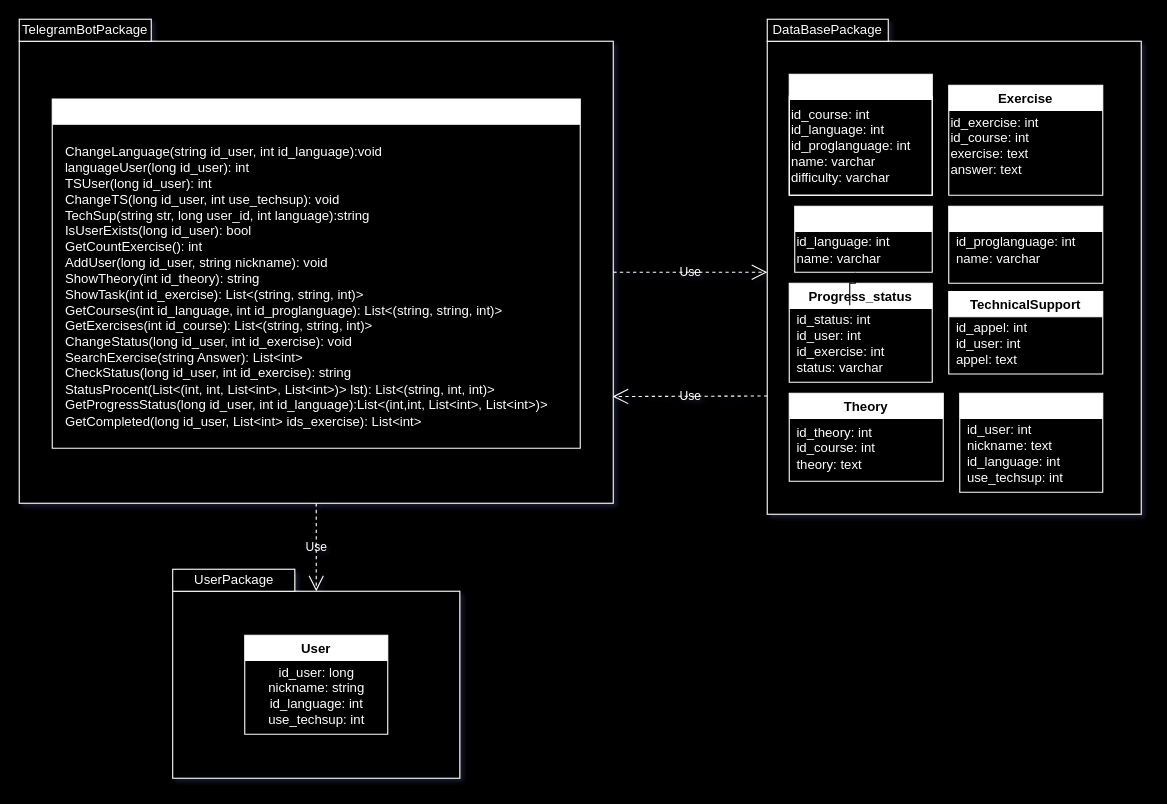
The diagram is 1167 pixels wide and 804 high, and some of its shapes have lost their labels. The box of each missing label's shape, as (x1, y1, x2, y2) in pixels:
Courses: (788, 73, 932, 195)
Languages: (794, 205, 932, 272)
ProgLanguages: (948, 205, 1103, 283)
TelegramBotProgEd: (51, 98, 580, 448)
Users: (959, 392, 1103, 492)
